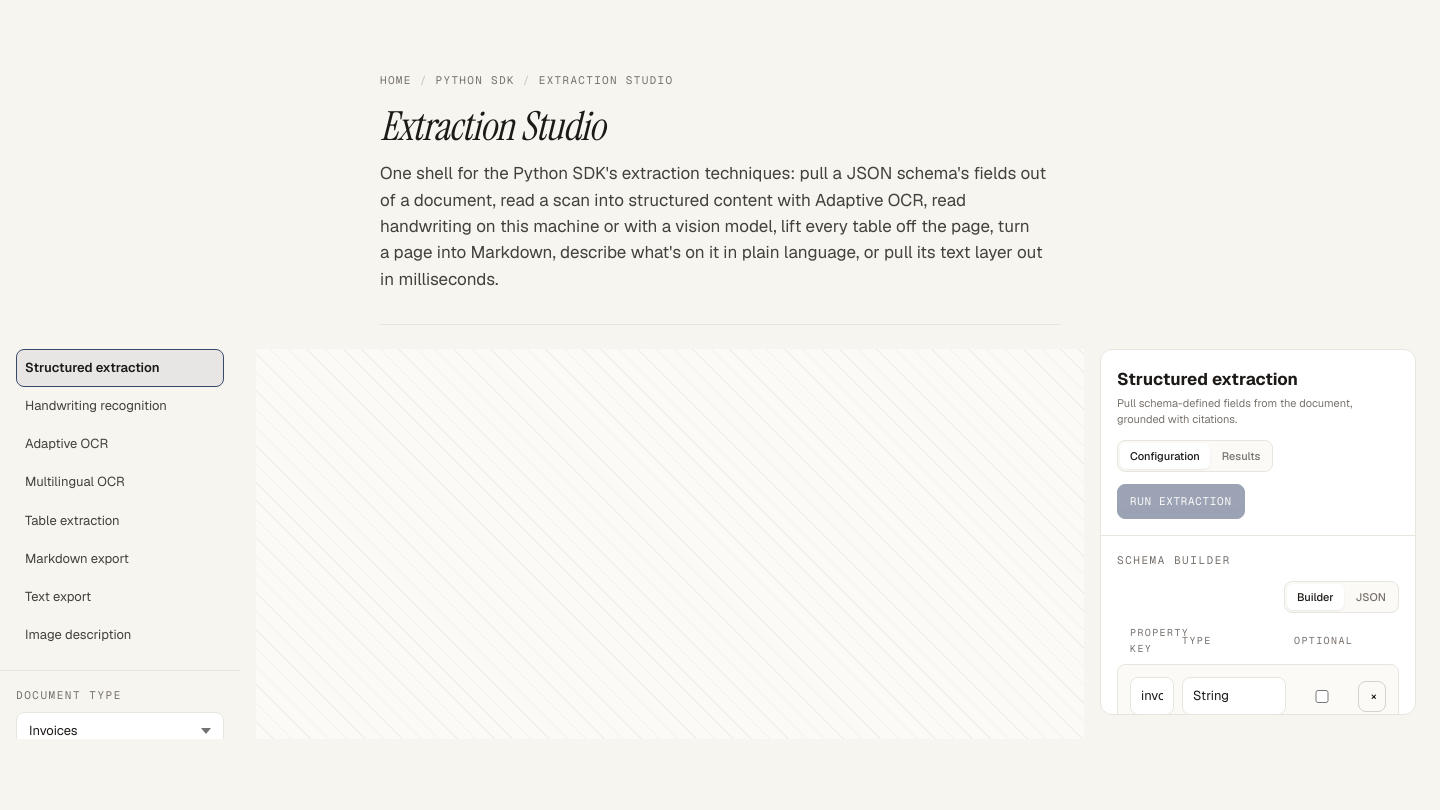
Test: Multilingual OCR is selectable and starts with French preselected alongside English
Click the button "Multilingual OCR" at (120, 482), box top-left (16, 463), bottom-right (224, 502)
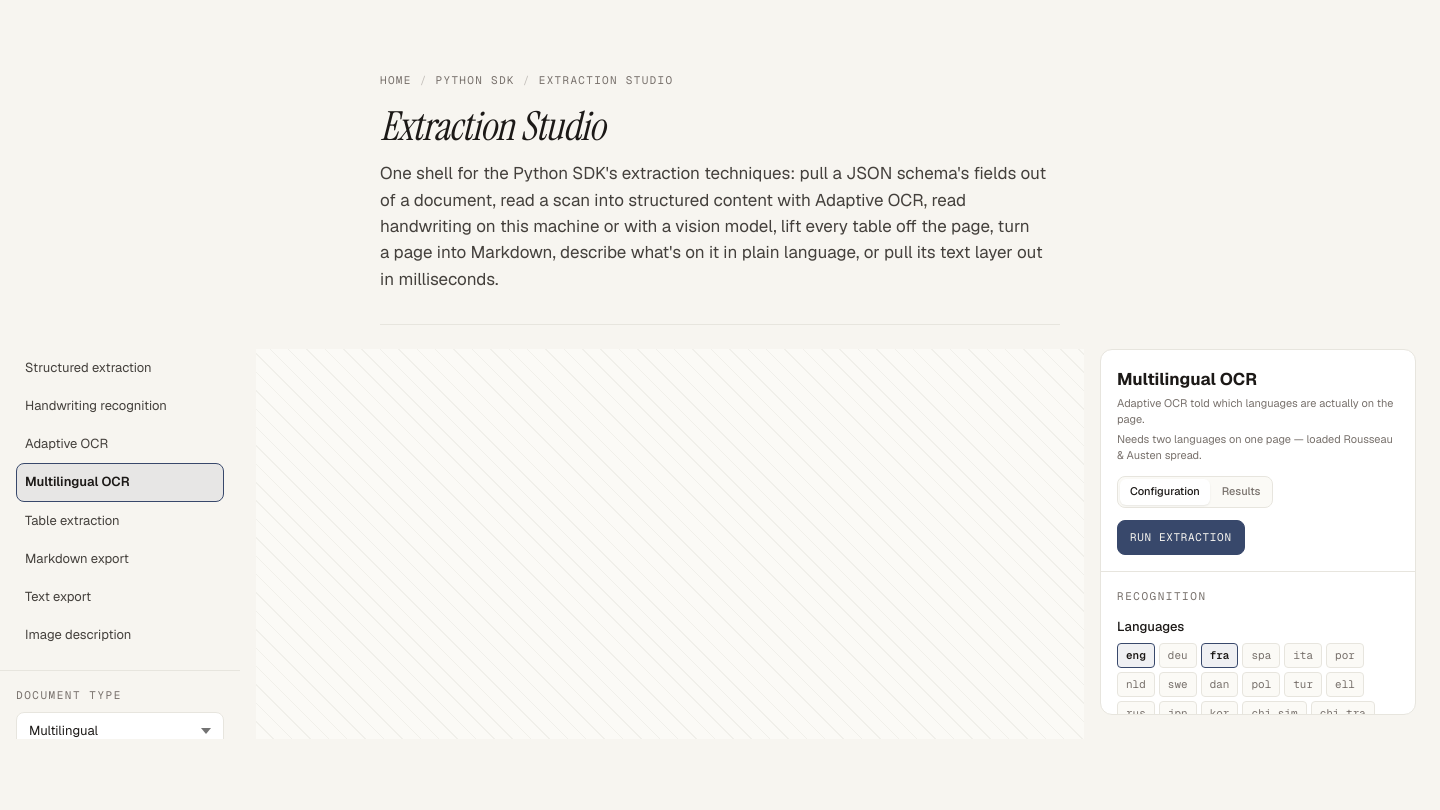
Check: the text "Languages" is shown, box top-left (1117, 618), bottom-right (1184, 635)
